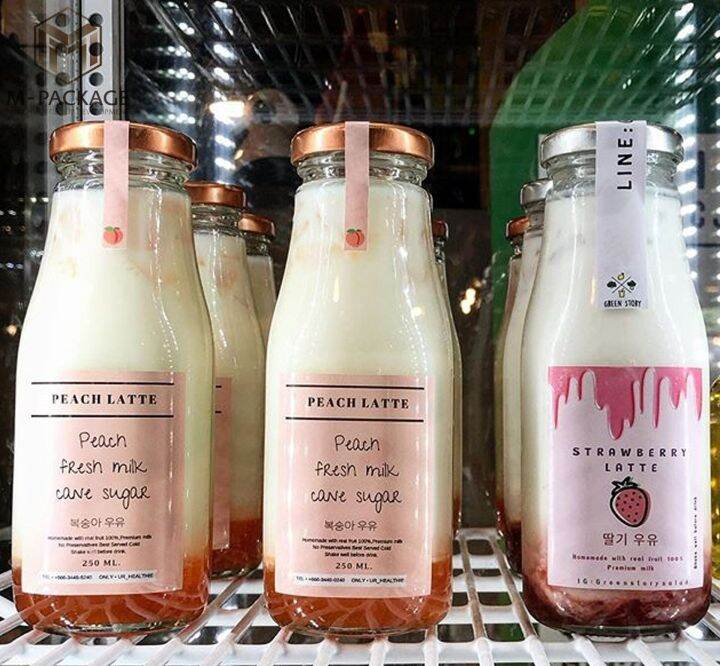glass_bottle: (507, 118, 717, 641), (10, 117, 219, 639), (261, 122, 459, 639)
